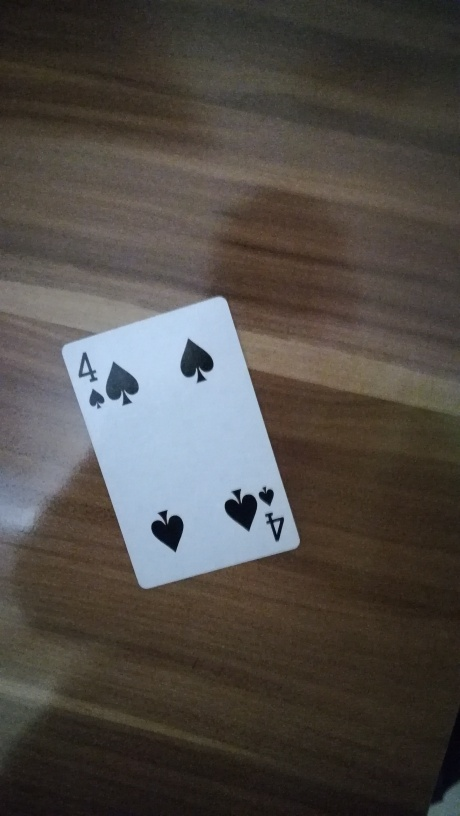ht 4: (60, 294, 305, 593)
